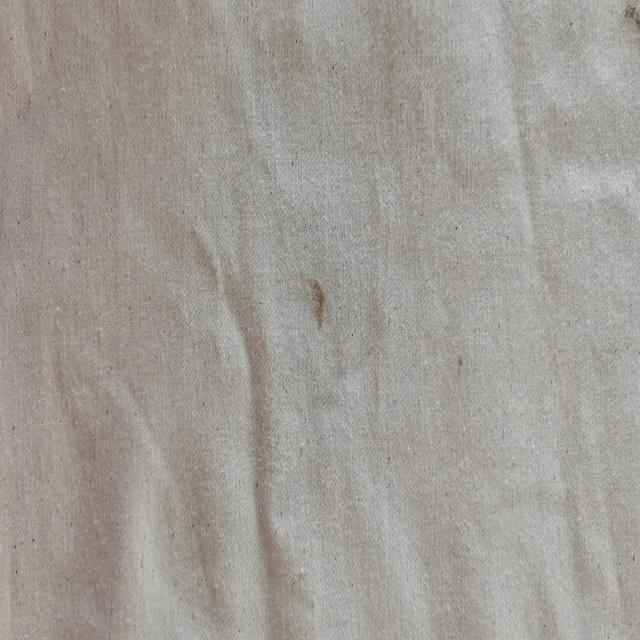taaaches: (301, 255, 330, 340), (624, 3, 640, 38)
